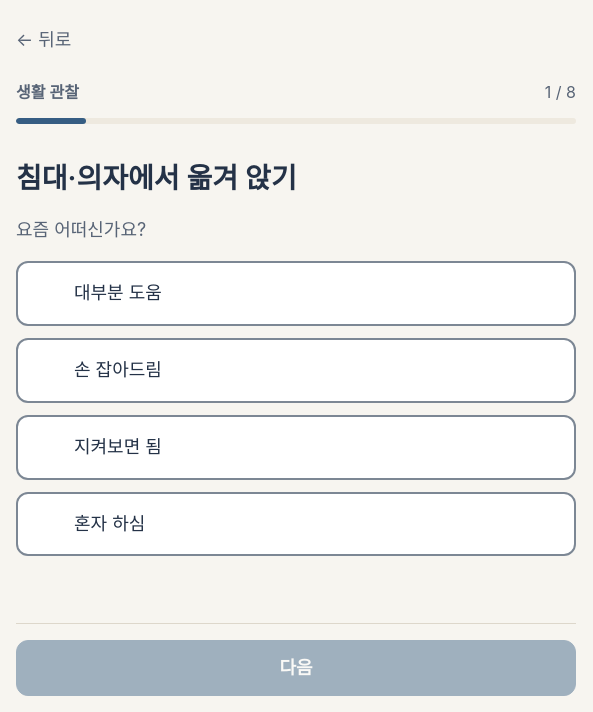
Test: 온보딩 기준선 › 도움 수준을 고르기 전에는 축을 보여주지 않는다
Click the button "지켜보면 됨" at (118, 446), box [16, 415, 576, 480]
(page scrolled)
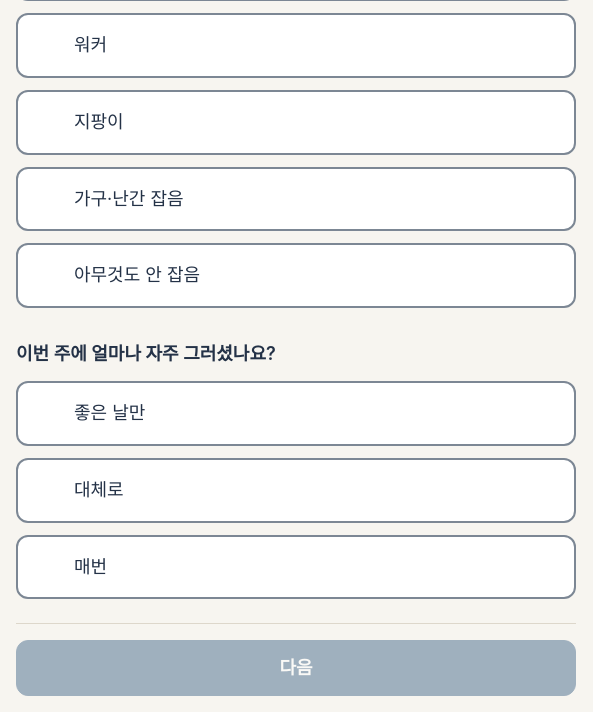
Result: the heading "이번 주에 얼마나 자주 그러셨나요?" is shown at [16, 343, 276, 364]
